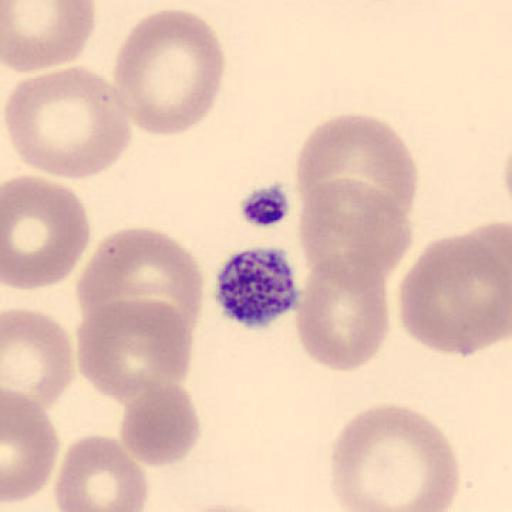Platelet: (211, 244, 304, 330), (236, 180, 293, 230)
RBC: (76, 225, 206, 345), (111, 7, 226, 138), (5, 64, 133, 181), (397, 230, 512, 358), (328, 402, 461, 512), (295, 112, 419, 226), (296, 174, 414, 284), (76, 296, 196, 404), (293, 251, 391, 372), (2, 174, 92, 290), (2, 306, 76, 412), (53, 433, 150, 512), (119, 378, 201, 468), (1, 0, 96, 73), (1, 388, 60, 505)
